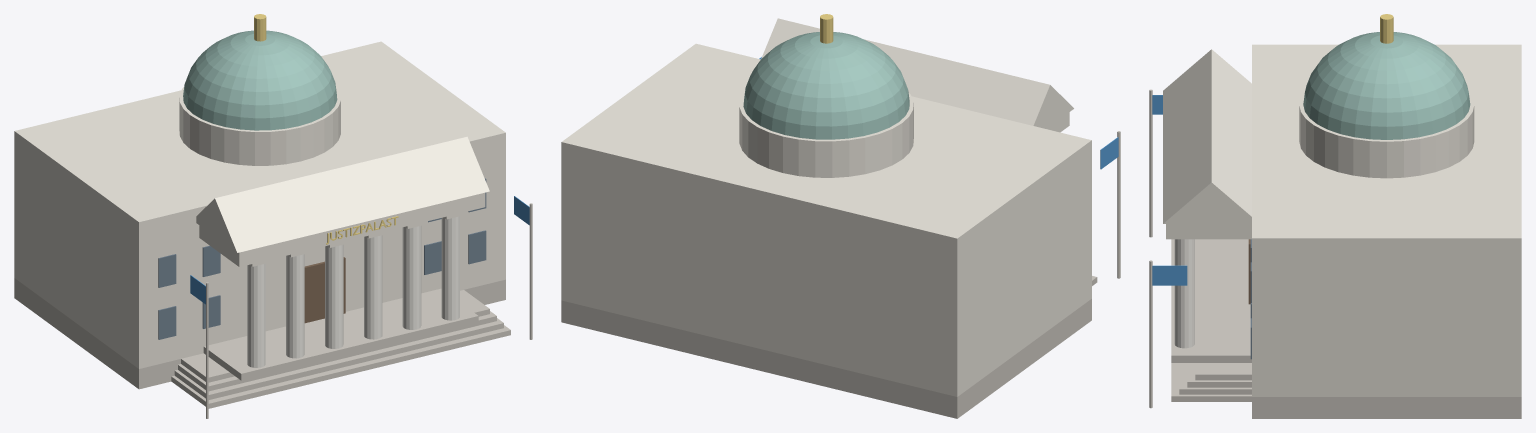
Rendered from courthouse.glb.
3 views of the same model, side by side, from view 1: azimuth 30°, elevation 25°; view 2: azimuth 150°, elevation 25°; view 3: azimuth 270°, elevation 25° (orthographic). The views are drawn at different scales.
Parts seen in each view (by area): view 1: Bau, Dach, Sphere, Cube.013, Cylinder.006, Cube.020, Cube.004, Cube, Cube.001, Cylinder.004, Cylinder.003, Cylinder.001 (+13 smaller); view 2: Bau, Sphere, Cube.004, Dach, Cylinder.006, Cylinder.008; view 3: Bau, Sphere, Dach, Cube.013, Cylinder.006, Cube.004, Cylinder.005, Cube.020, Cube.003, Cube, Cube.001, Cube.023 (+4 smaller).
Part boxes in pixels (left/top/right/bottom): Bau: left=14, top=41, right=505, bottom=368; Dach: left=196, top=136, right=489, bottom=252; Sphere: left=183, top=30, right=337, bottom=130; Cube.013: left=203, top=288, right=478, bottom=380; Cylinder.006: left=179, top=86, right=340, bottom=165; Cube.020: left=199, top=192, right=485, bottom=266; Cube.004: left=14, top=278, right=505, bottom=389; Cube: left=171, top=325, right=510, bottom=408; Cube.001: left=174, top=318, right=503, bottom=399; Cylinder.004: left=402, top=226, right=421, bottom=329; Cylinder.003: left=364, top=235, right=382, bottom=339; Cylinder.001: left=286, top=254, right=304, bottom=358; Bau: left=561, top=43, right=1091, bottom=396; Sphere: left=743, top=32, right=909, bottom=139; Cube.004: left=561, top=299, right=1091, bottom=418; Dach: left=761, top=18, right=1073, bottom=128; Cylinder.006: left=739, top=92, right=913, bottom=177; Cylinder.008: left=1117, top=131, right=1120, bottom=278; Bau: left=1252, top=44, right=1521, bottom=396; Sphere: left=1303, top=32, right=1470, bottom=139; Dach: left=1163, top=49, right=1251, bottom=223; Cube.013: left=1171, top=239, right=1251, bottom=362; Cylinder.006: left=1299, top=92, right=1474, bottom=178; Cube.004: left=1252, top=397, right=1521, bottom=418; Cylinder.005: left=1174, top=239, right=1194, bottom=348; Cube.020: left=1166, top=224, right=1251, bottom=239; Cube.003: left=1195, top=363, right=1251, bottom=380; Cube: left=1171, top=363, right=1251, bottom=401; Cube.001: left=1179, top=363, right=1251, bottom=394; Cube.023: left=1152, top=265, right=1187, bottom=285.
Bounding box in the file's own units: 34 × 25 × 27.62.
